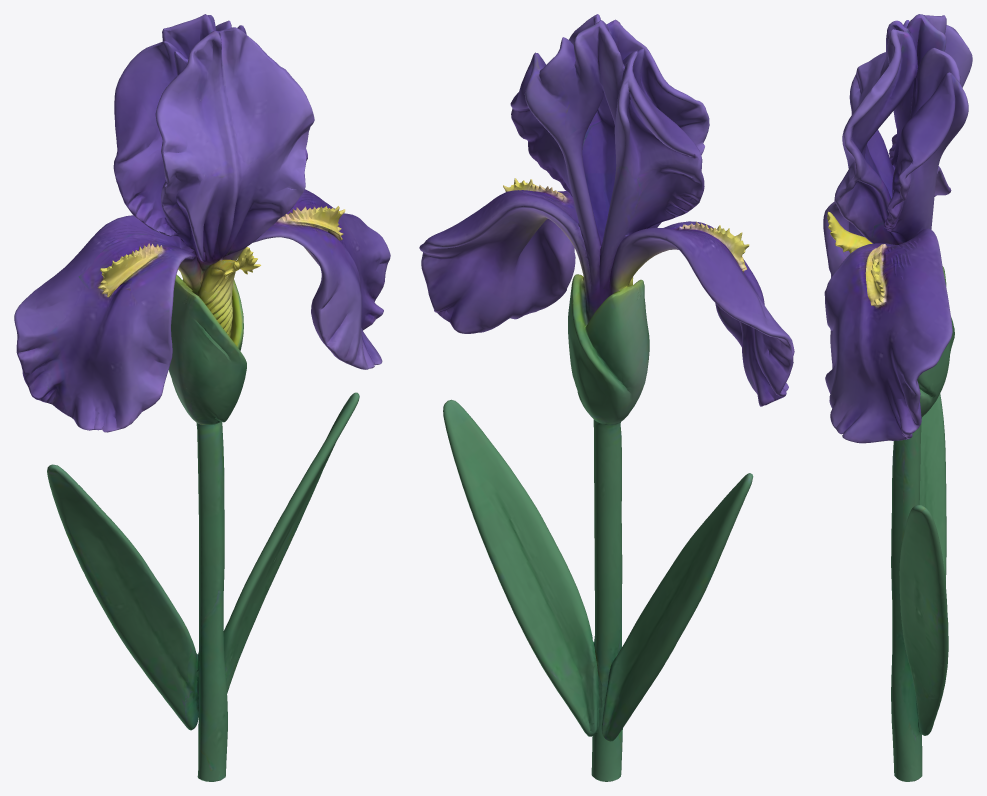
The model's file is purple_iris.glb.
3 views of the same model, side by side, from view 1: azimuth 30°, elevation 25°; view 2: azimuth 150°, elevation 25°; view 3: azimuth 270°, elevation 25° (orthographic).
Visible parts, largest first — view 1: model; view 2: model; view 3: model.
Boxes of the visible parts, left/top/right/bottom form: model: left=14, top=14, right=390, bottom=781; model: left=419, top=14, right=794, bottom=781; model: left=823, top=14, right=972, bottom=781.
Size of the model in its own units: 0.9729 by 1.9 by 0.337.
Materials: 1 (1 with a texture image).
